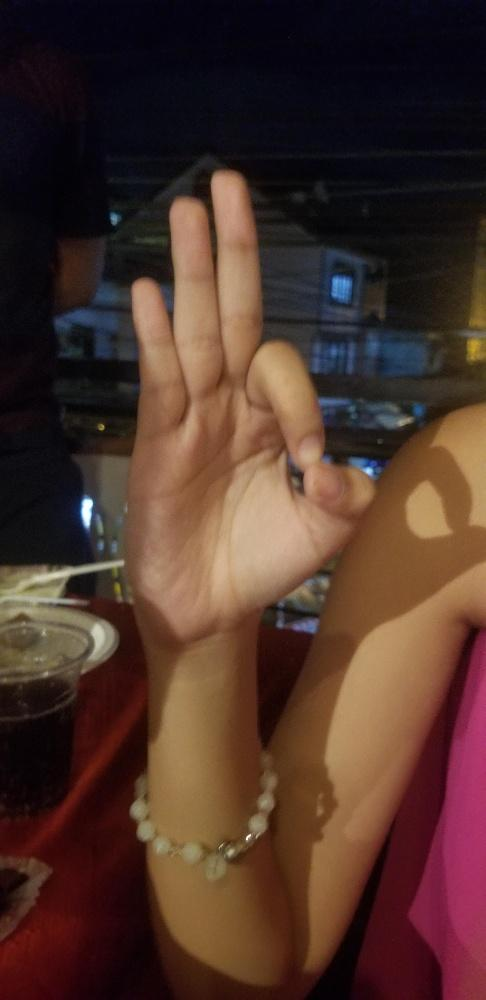f: (126, 165, 378, 630)
